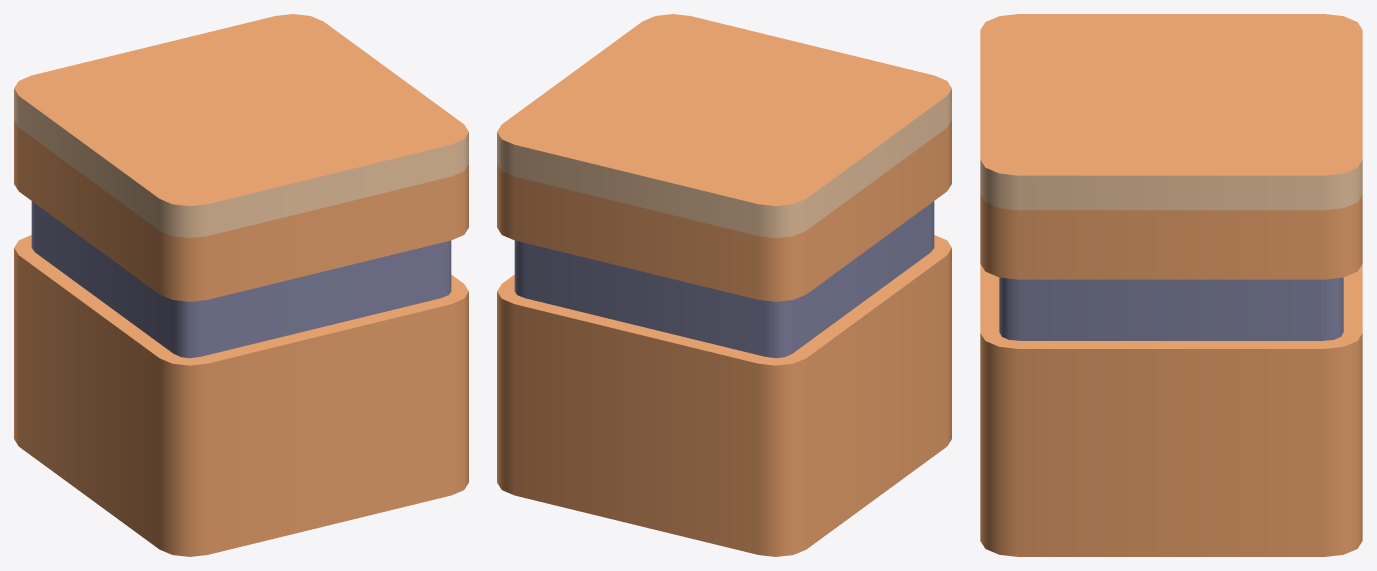
The model's file is planeRounded_1X1.fbx.
The picture shows the model from 3 angles, left to right: view 1: azimuth 30°, elevation 25°; view 2: azimuth 150°, elevation 25°; view 3: azimuth 270°, elevation 25°; orthographic projection. The views are drawn at different scales.
Visible parts, largest first — view 1: planeRounded 1X1, planeRounded 1X1.002, planeRounded 1X1.001; view 2: planeRounded 1X1, planeRounded 1X1.001, planeRounded 1X1.002; view 3: planeRounded 1X1, planeRounded 1X1.002, planeRounded 1X1.001.
Boxes of the visible parts, x1,y1,x2,y2 form: planeRounded 1X1: [14, 120, 468, 556]; planeRounded 1X1.002: [89, 73, 468, 237]; planeRounded 1X1.001: [14, 14, 393, 178]; planeRounded 1X1: [497, 120, 951, 556]; planeRounded 1X1.001: [497, 73, 876, 237]; planeRounded 1X1.002: [572, 14, 951, 178]; planeRounded 1X1: [980, 195, 1362, 556]; planeRounded 1X1.002: [980, 14, 1171, 210]; planeRounded 1X1.001: [1171, 14, 1362, 210].
Bounding box in the file's own units: 100 × 110 × 100.
